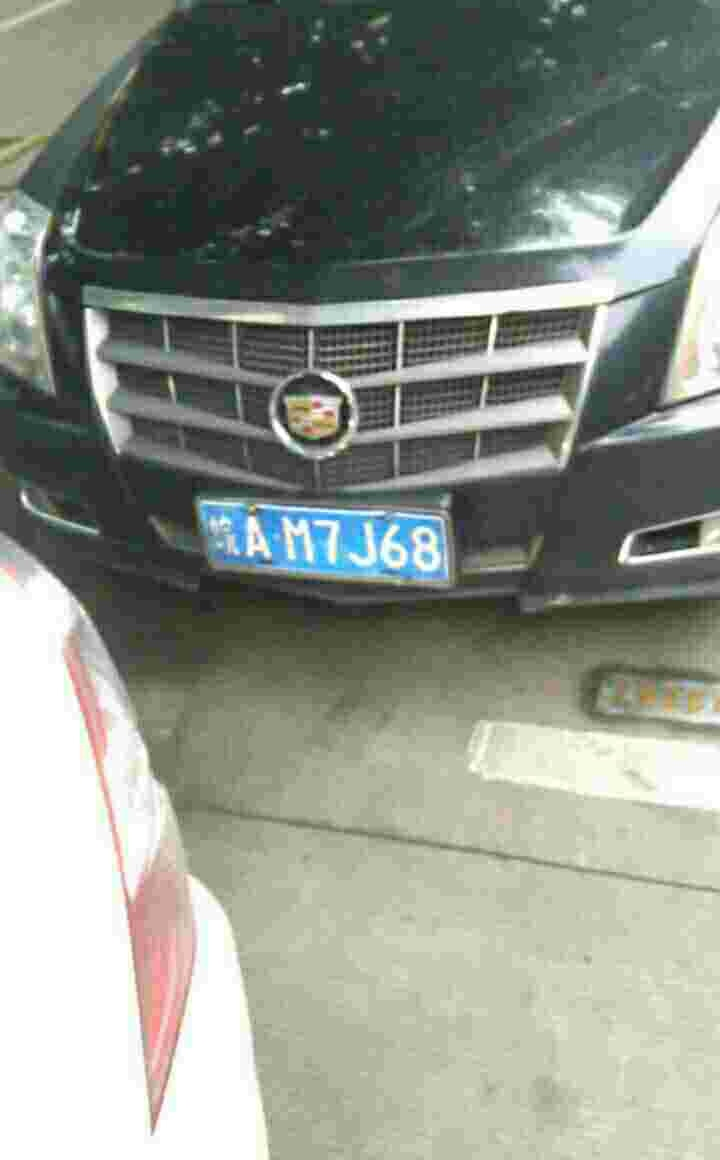plate: (200, 497, 457, 586)
